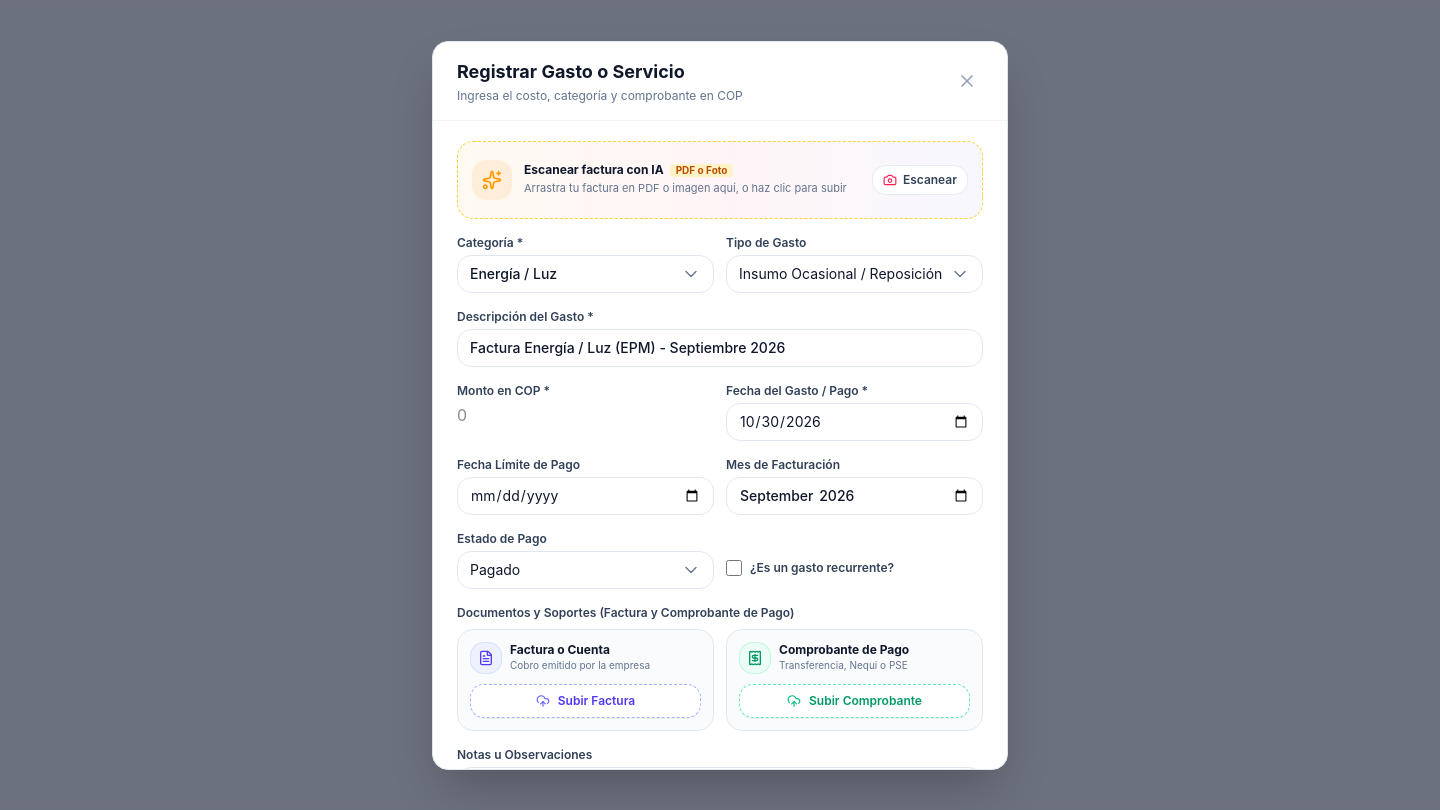
Test: ExpenseModal Component Description Behavior › updates description dynamically when changing category if not manually edited
The image size is (1440, 810).
Select "Administración" in the dropdown labelled "Categoría *": (586, 274) [457, 254, 714, 292]
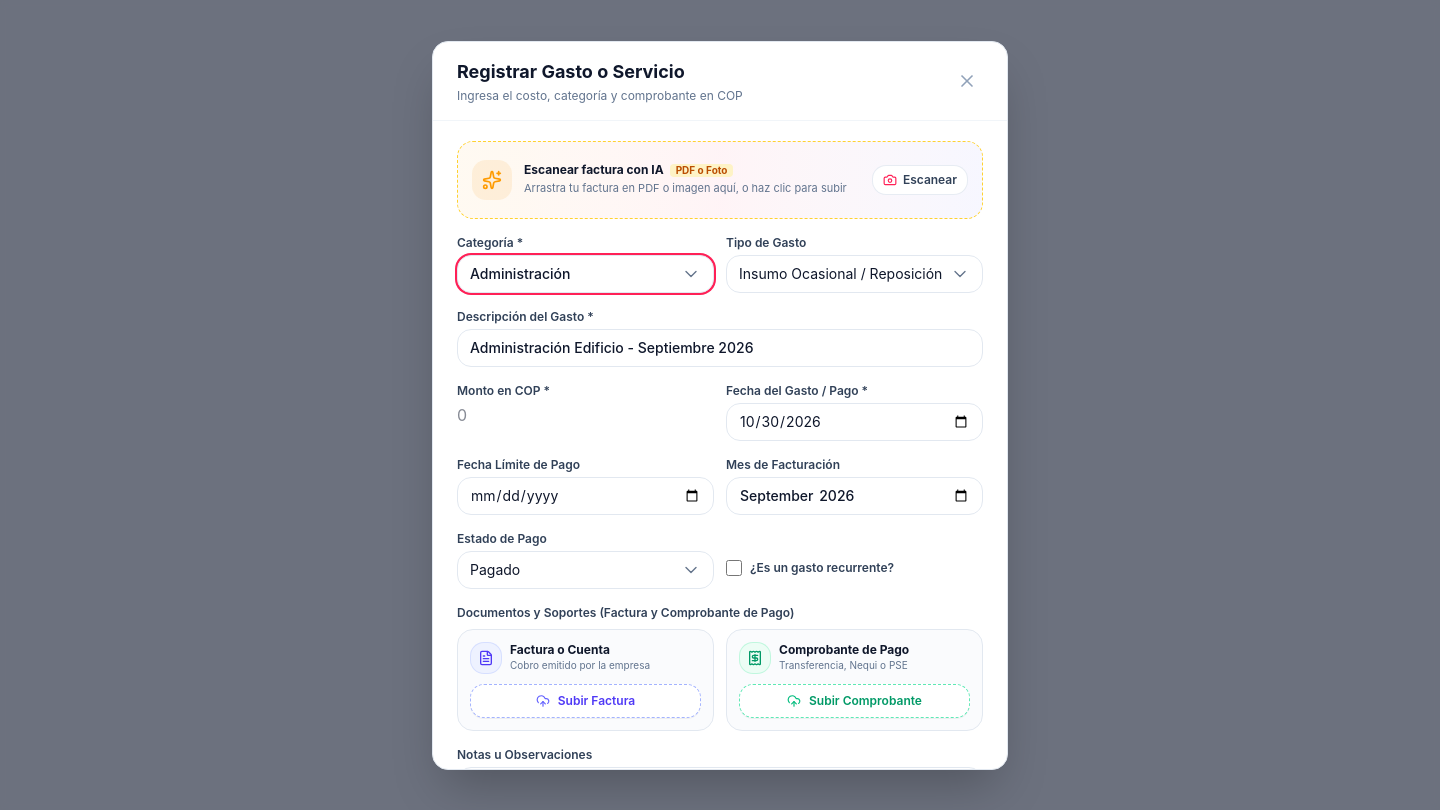
Now the field showing "Administración Edificio - Septiembre 2026" is shown, box [457, 328, 983, 366]
